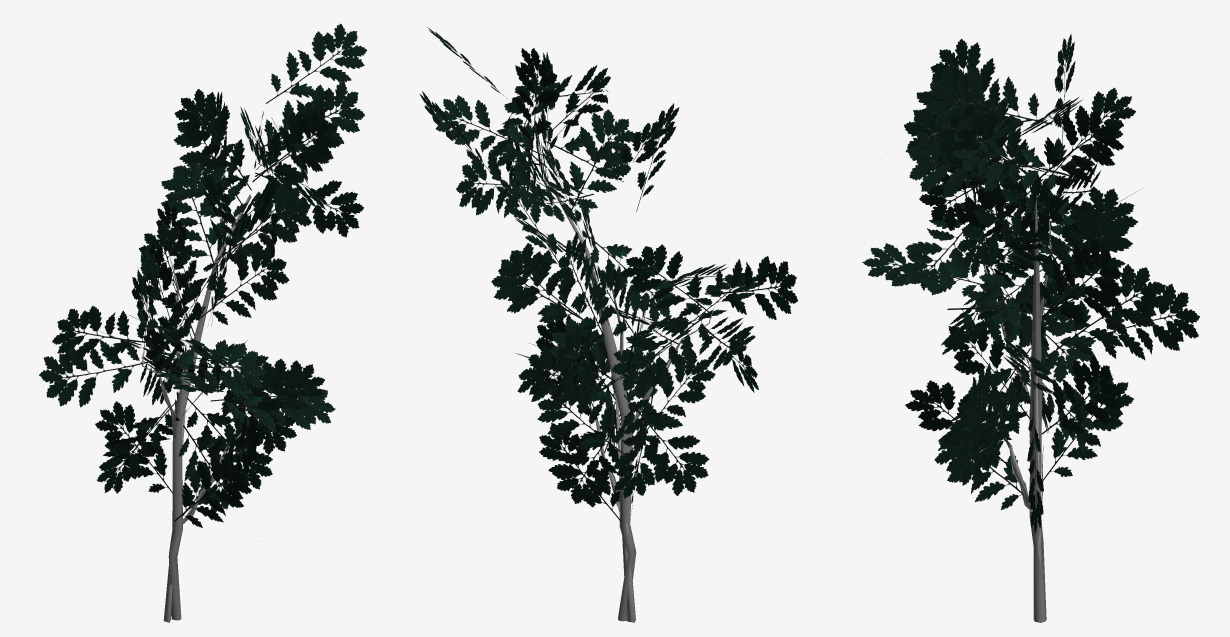
The model's file is sm_tree3.glb.
3 views of the same model, side by side, from view 1: azimuth 30°, elevation 25°; view 2: azimuth 150°, elevation 25°; view 3: azimuth 270°, elevation 25° (orthographic). The views are drawn at different scales.
Parts seen in each view (by area): view 1: sm_tree3_00, sm_tree3_01; view 2: sm_tree3_00, sm_tree3_01; view 3: sm_tree3_00, sm_tree3_01.
Boxes of the visible parts, x1,y1,x2,y2 form: sm_tree3_00: [44, 23, 367, 620]; sm_tree3_01: [39, 82, 364, 622]; sm_tree3_00: [419, 27, 759, 620]; sm_tree3_01: [434, 65, 797, 622]; sm_tree3_00: [862, 34, 1199, 620]; sm_tree3_01: [874, 77, 1174, 622].
Bounding box in the file's own units: 1.12 × 1.64 × 0.8621.
Materials: 2 (1 with a texture image).
